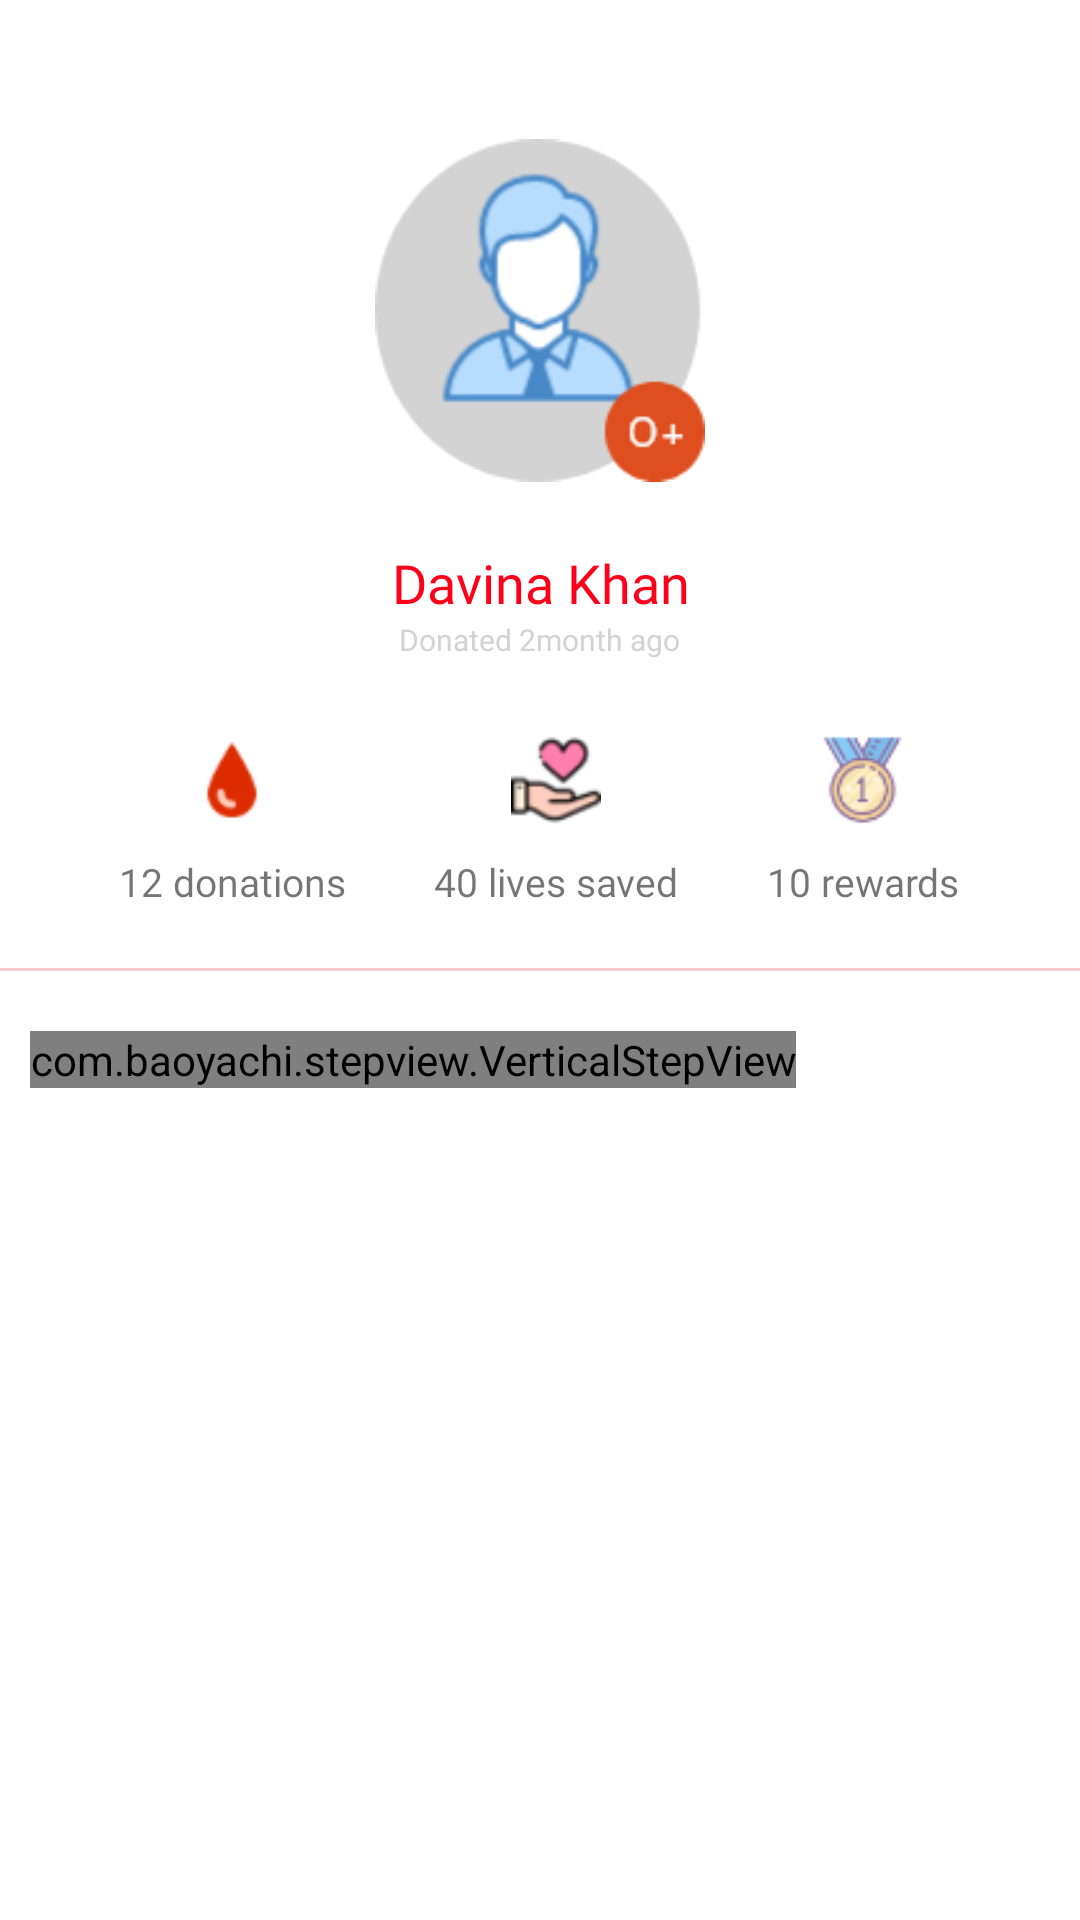

Locate icon controls on the screen. Image size 1080x1920, boxes as (x1, y1, x2, y2).
rewads: (824, 737, 902, 823)
